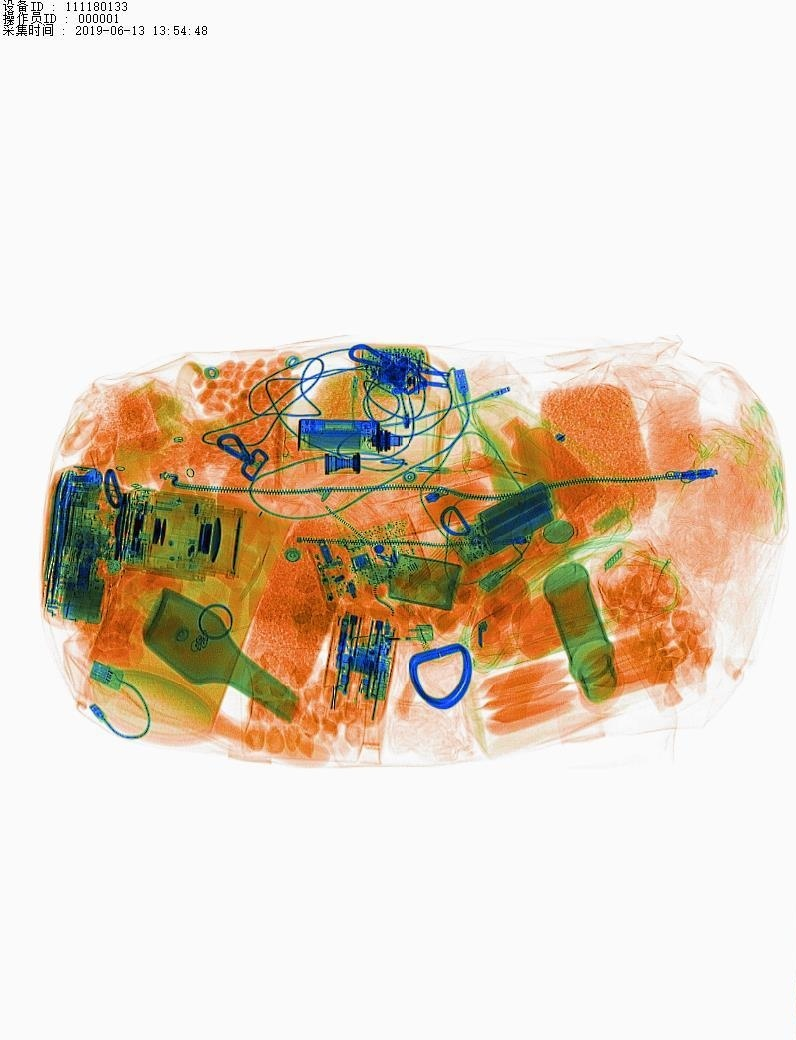NonmetallicFire: (332, 618, 437, 654)
